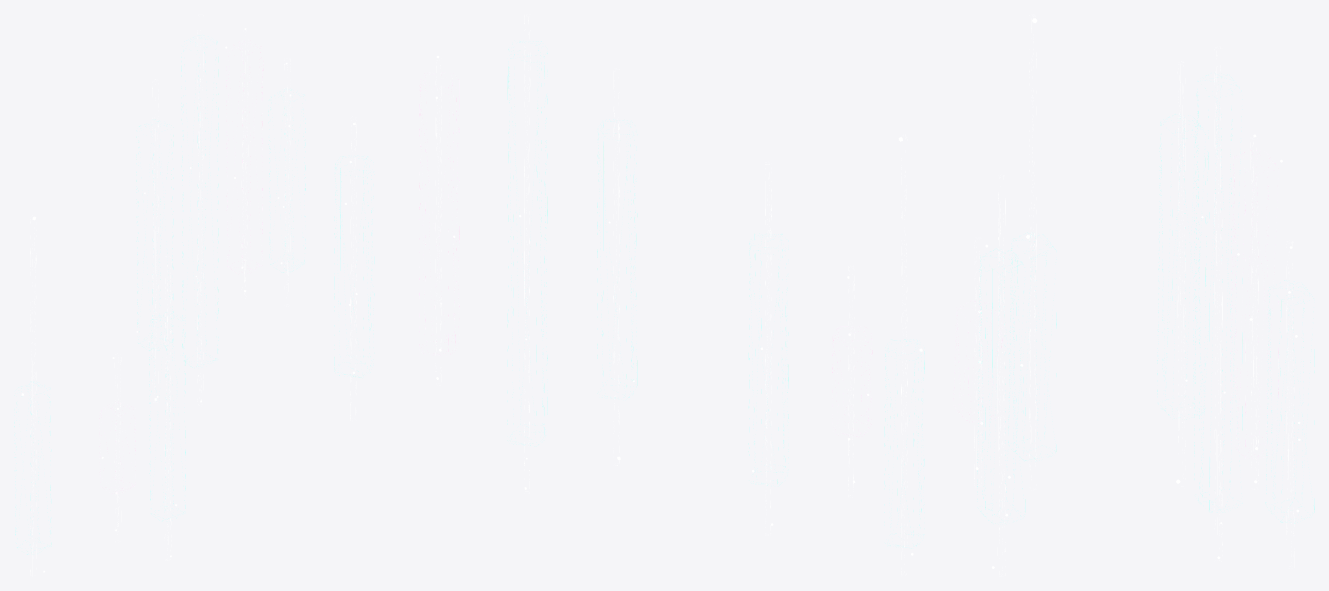
The model's file is starCandles.glb.
The picture shows the model from 3 angles, left to right: view 1: azimuth 30°, elevation 25°; view 2: azimuth 150°, elevation 25°; view 3: azimuth 270°, elevation 25°; orthographic projection. The views are drawn at different scales.
Visible parts, largest first — view 1: StarCandles; view 2: StarCandles; view 3: StarCandles.
Part boxes in pixels (<box>): StarCandles: <box>14,15,305,576</box>; StarCandles: <box>334,15,924,575</box>; StarCandles: <box>953,14,1314,576</box>.
Bounding box in the file's own units: 4.84 × 5.52 × 3.
